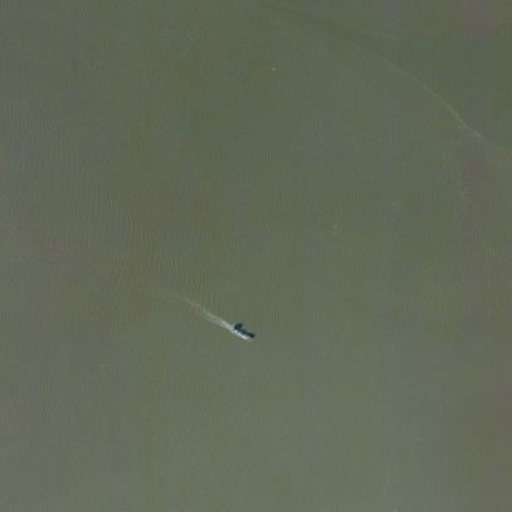ship: (226, 321, 256, 346)
